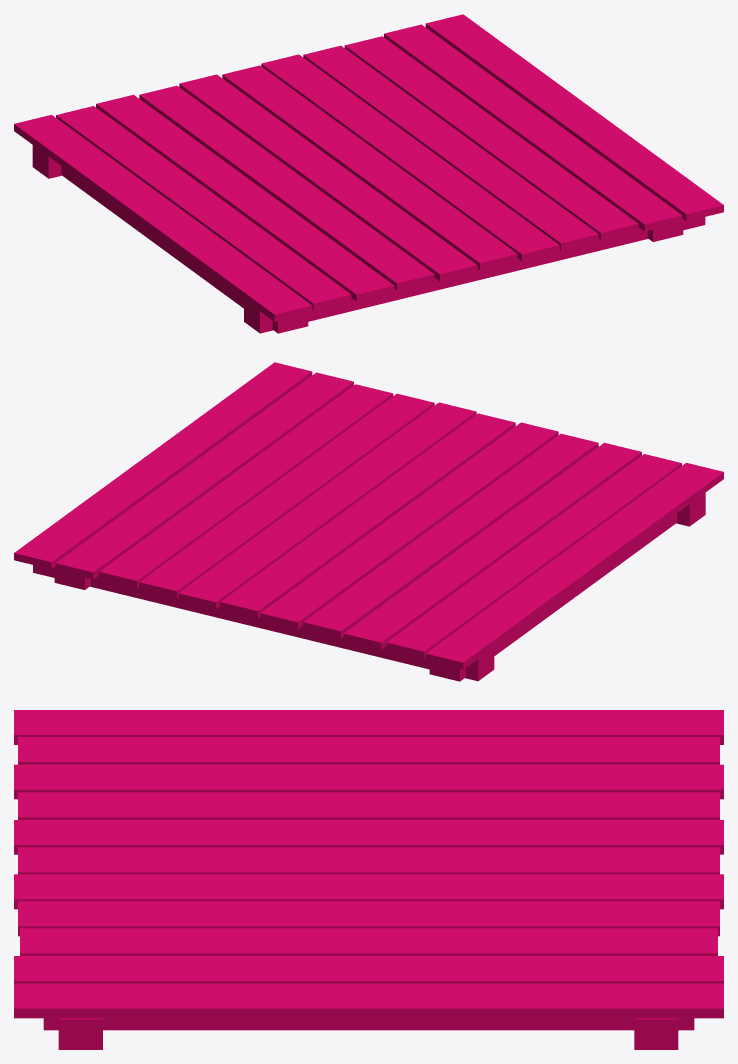
The model's file is Bastion_Floor_01_Lod0.fbx.
3 views of the same model, one above another, from view 1: azimuth 30°, elevation 25°; view 2: azimuth 150°, elevation 25°; view 3: azimuth 270°, elevation 25° (orthographic). The views are drawn at different scales.
Visible parts, largest first — view 1: Bastion_Floor_01_Lod0; view 2: Bastion_Floor_01_Lod0; view 3: Bastion_Floor_01_Lod0.
Part boxes in pixels (x1,y1,x2,y2): Bastion_Floor_01_Lod0: (14,14,723,333); Bastion_Floor_01_Lod0: (14,362,723,681); Bastion_Floor_01_Lod0: (14,710,723,1049).
Bounding box in the file's own units: 298 × 19.85 × 299.
